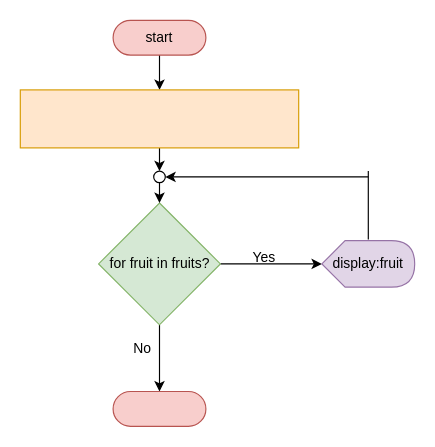
Image size: 435x447. Some labels were removed from this diagram. The shapes that lost their labels are listed below. From the top down, each one's centre as x and y in pixels, then its label:
At point (159, 118): "fruits = ['apple', 'banana' , 'cherry']".
At point (159, 408): "end".
